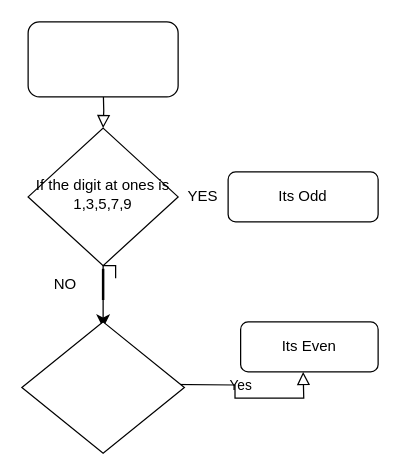
This 400x475 diagram has some shape labels left out. Each missing label, with the centre of its shape:
Digit at ones would be 0,2,4,6,8: point 102,387
Is a number Odd or Even: point 102,59
